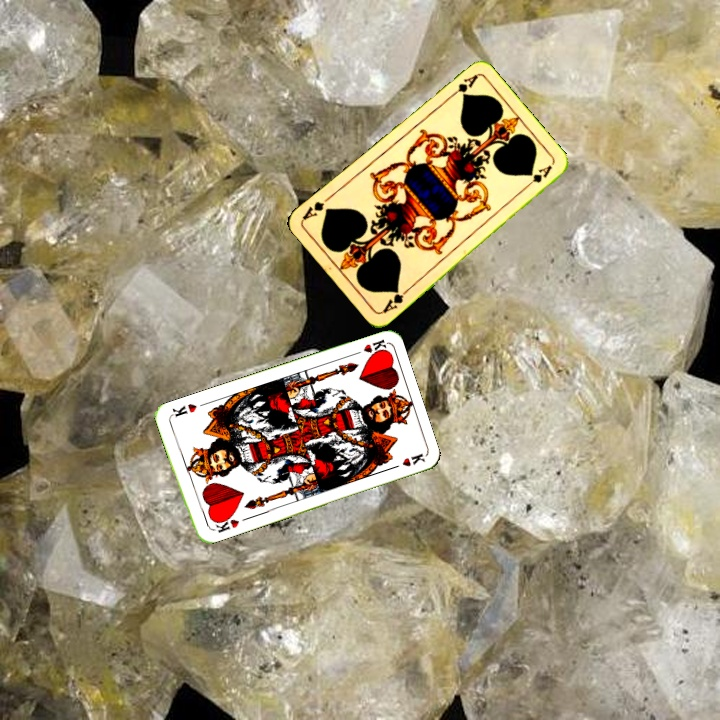GA: (378, 284, 412, 316), (445, 71, 480, 101)
HK: (347, 335, 389, 358), (207, 511, 241, 535)
